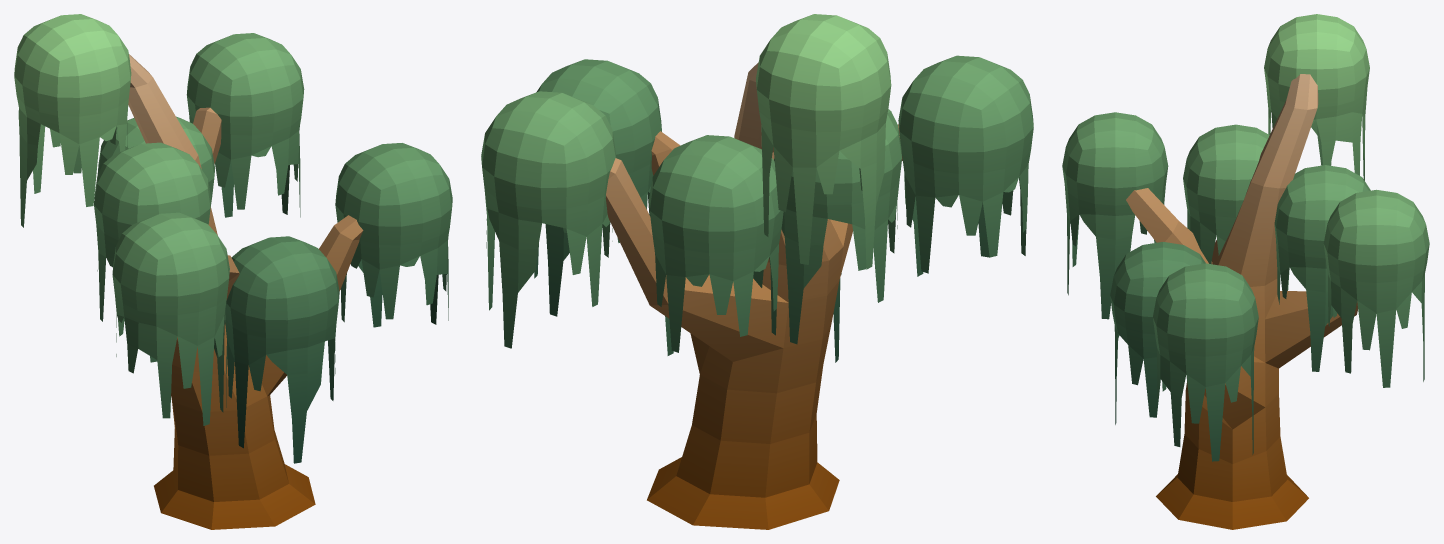
The model's file is willowTree.fbx.
The picture shows the model from 3 angles, left to right: view 1: azimuth 30°, elevation 25°; view 2: azimuth 150°, elevation 25°; view 3: azimuth 270°, elevation 25°; orthographic projection. The views are drawn at different scales.
Visible parts, largest first — view 1: willowTree; view 2: willowTree; view 3: willowTree.
Part boxes in pixels (left/top/right/bottom): willowTree: left=14, top=14, right=452, bottom=529; willowTree: left=481, top=14, right=1033, bottom=529; willowTree: left=1062, top=14, right=1429, bottom=529.
Bounding box in the file's own units: 1061 × 1273 × 994.
